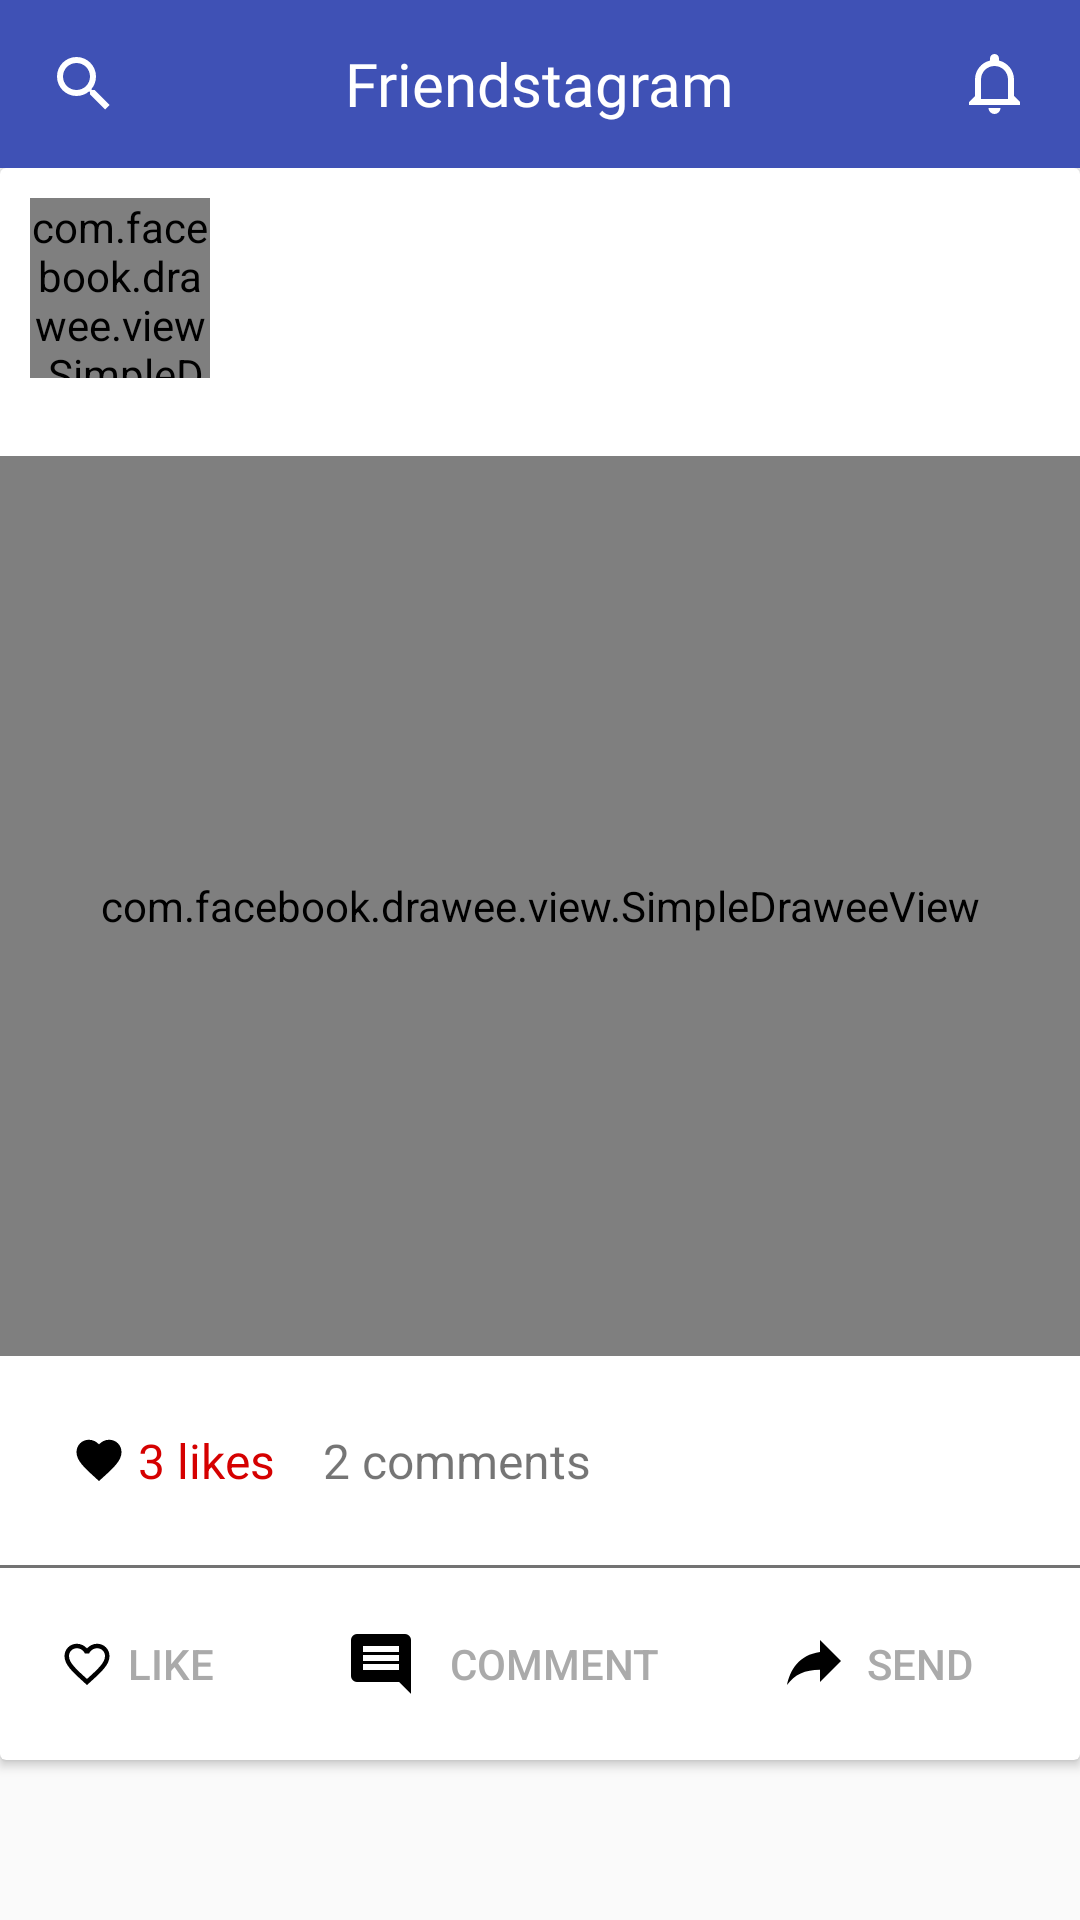

Named icons in this screenshot (1080 x 1920) and their centers, [x,y]:
Notifications: [994,84]
Search: [83,83]
